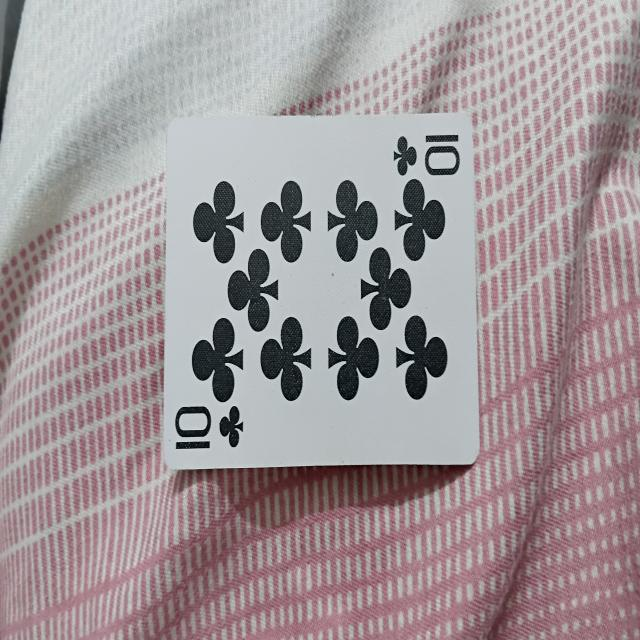10C: (166, 117, 478, 466)
